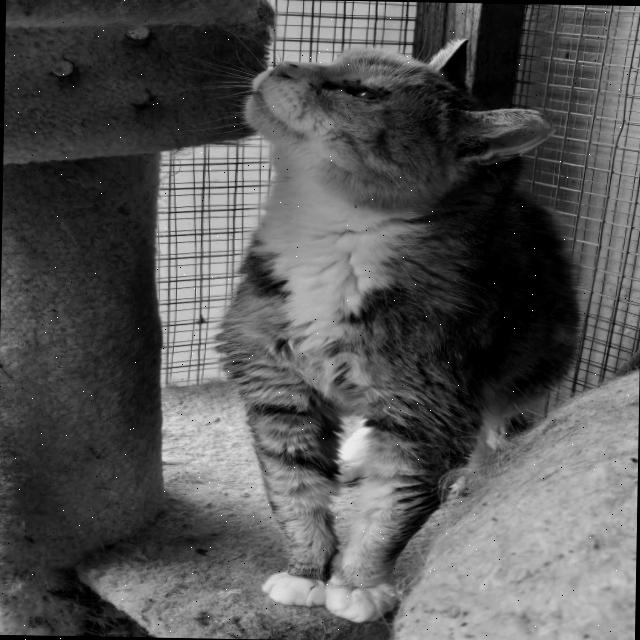calico_cat: (200, 24, 566, 240)
